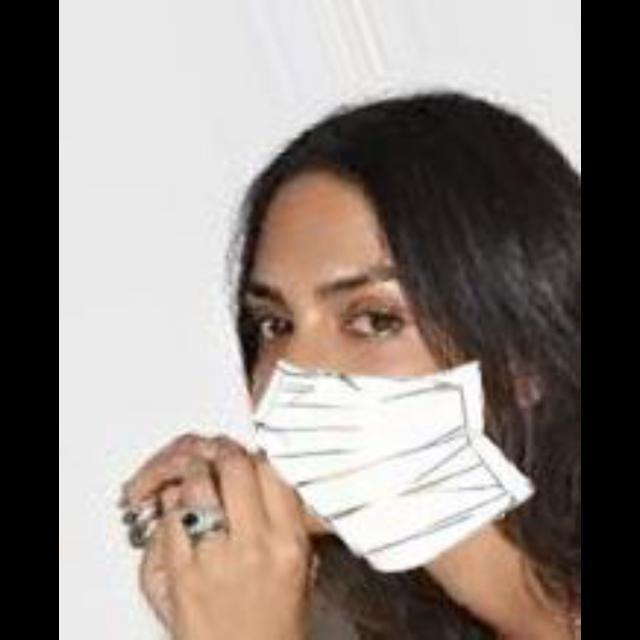suspicion: (246, 173, 548, 554)
